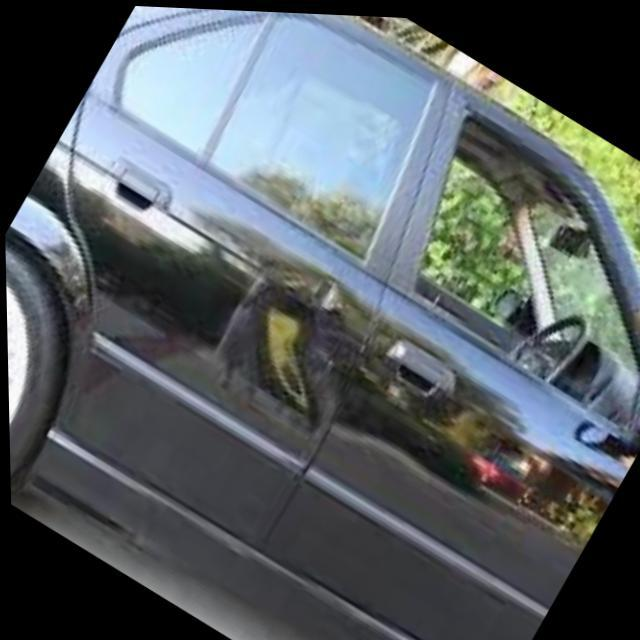dent: (227, 255, 349, 442)
